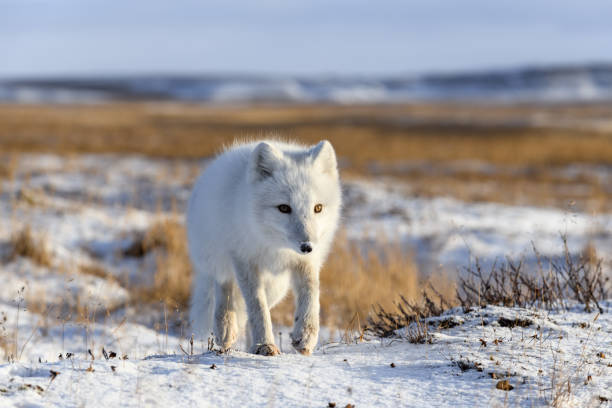arcticfox: (258, 157, 325, 262)
